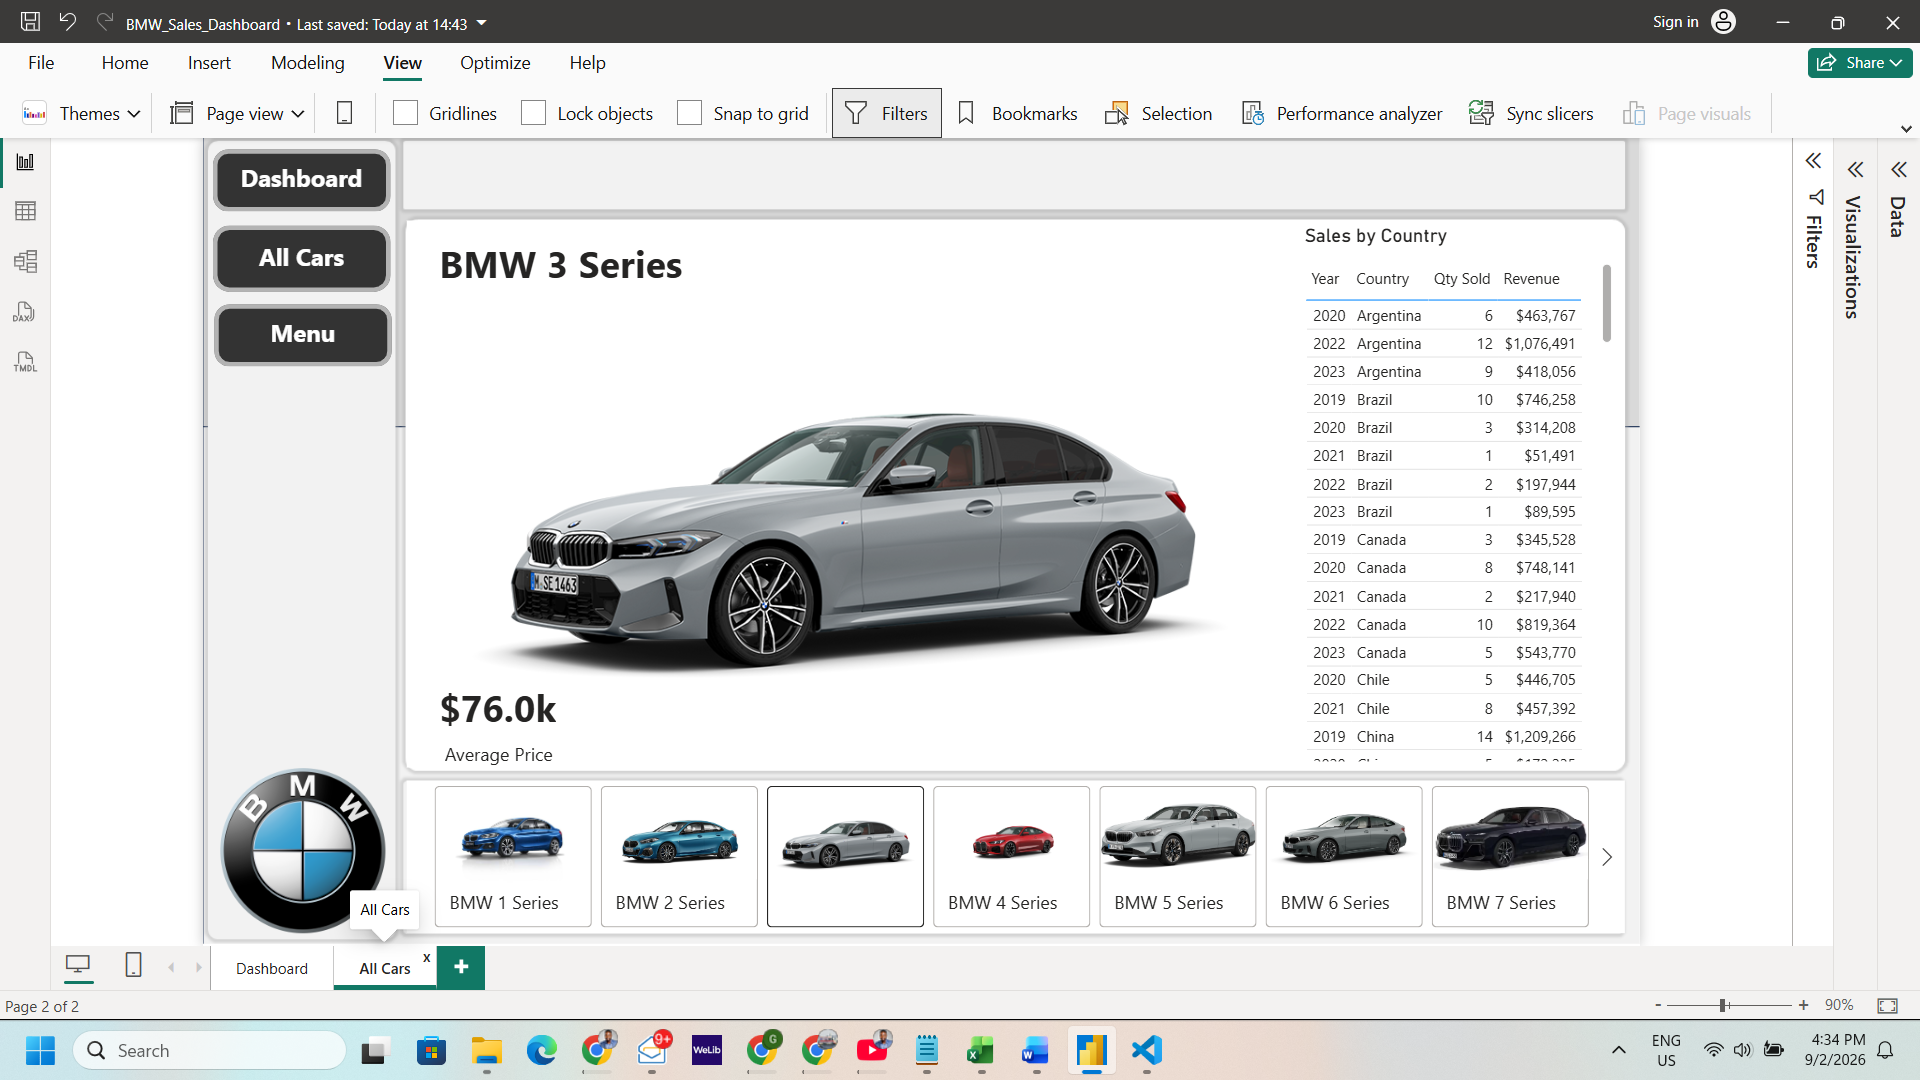

The page's visual inventory and layout, read from the dashboard file:
{"tool":"powerbi","page":{"name":"All Cars","canvas":[1280,720],"ordinal":1},"visuals":[{"type":"group","id":"g1","title":"Group 1","box":[8.7,9.9,158,126.7],"z":0,"group":"g3"},{"type":"shape","box":[9.7,148.4,158,55.5],"z":0,"group":"g4"},{"type":"shape","box":[209.9,481.4,259.4,50.7],"z":0,"group":"g2"},{"type":"advancedSlicerVisual","fields":{"Values":["DimModel.Model"]},"box":[181,571.9,1084.6,136.3],"z":0},{"type":"advancedSlicerVisual","fields":{"Values":["DimModel.Model"]},"box":[181,73.6,795,487.4],"z":1000},{"type":"textbox","box":[19.4,154.4,137.5,43.4],"z":1000,"group":"g4"},{"type":"textbox","box":[209.9,532.1,158,31.4],"z":1000,"group":"g2"},{"type":"shape","box":[209.9,85.7,259.4,50.7],"z":2000},{"type":"group","id":"g2","title":"Group 2","box":[209.9,481.4,259.4,82],"z":3000},{"type":"tableEx","title":"Sales by Country","fields":{"Values":["Dim_Date.Year","DimCountry.Country","All Measures.Qty Sold","All Measures.Revenue"]},"box":[976,77.2,283.5,483.8],"z":4000},{"type":"group","id":"g3","title":"Group 3","box":[8.7,9.9,158.9,126.7],"z":5000},{"type":"actionButton","box":[14.4,12.1,147.2,49.5],"z":6000,"group":"g3"},{"type":"group","id":"g4","title":"Group 1","box":[9.7,148.4,158,55.5],"z":6000},{"type":"actionButton","box":[9.6,79.7,158,55.5],"z":7000,"group":"g3"},{"type":"image","box":[8.4,561,159.3,147.2],"z":7000},{"type":"shape","box":[8.7,9.9,158,55.5],"z":9000,"group":"g1"},{"type":"shape","box":[8.7,77.5,158,59.1],"z":10000,"group":"g1"},{"type":"textbox","box":[19,85.7,137.5,42.2],"z":11000,"group":"g1"},{"type":"textbox","box":[19,15.7,137.5,43.4],"z":12000,"group":"g1"}]}

Visuals, with their boxes on the page's 1280x720 design canvas (x1, y1, x2, y2). These are canvas units, not pixel positions in the 1920x1080 screenshot, which may show the page scaled, cropped or inside an application window:
"Group 1" group: 9/10/167/137
shape: 10/148/168/204
shape: 210/481/469/532
advancedSlicerVisual - DimModel.Model: 181/572/1266/708
advancedSlicerVisual - DimModel.Model: 181/74/976/561
textbox: 19/154/157/198
textbox: 210/532/368/564
shape: 210/86/469/136
"Group 2" group: 210/481/469/563
"Sales by Country" tableEx: 976/77/1260/561
"Group 3" group: 9/10/168/137
actionButton: 14/12/162/62
"Group 1" group: 10/148/168/204
actionButton: 10/80/168/135
image: 8/561/168/708
shape: 9/10/167/65
shape: 9/78/167/137
textbox: 19/86/156/128
textbox: 19/16/156/59
